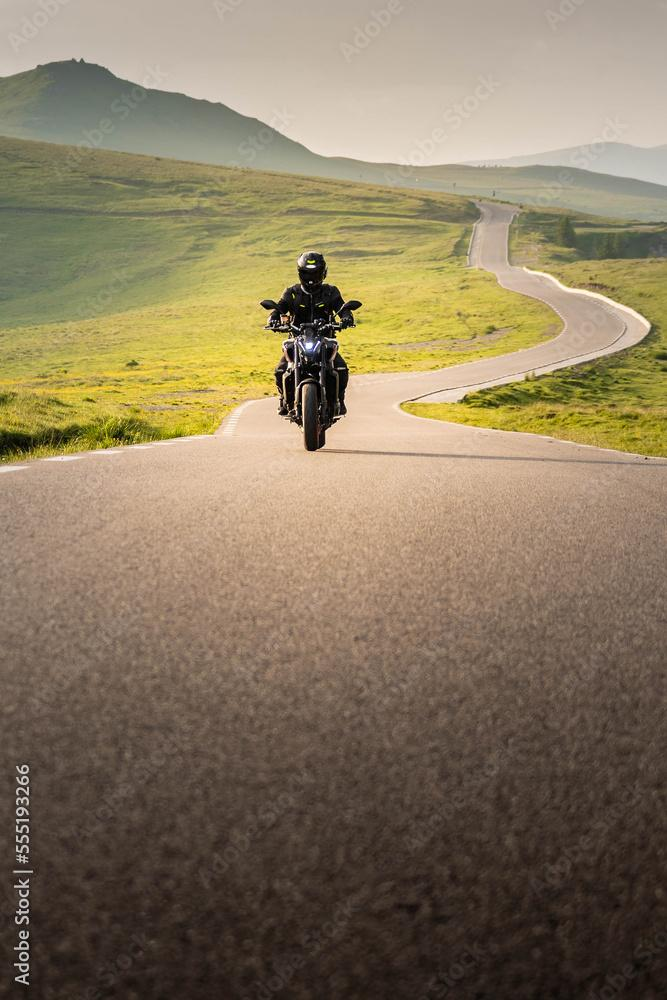helmet: (297, 250, 328, 293)
